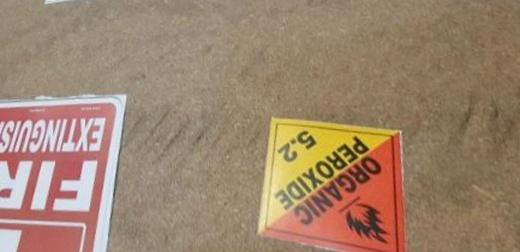organic-peroxide: (247, 112, 423, 252)
